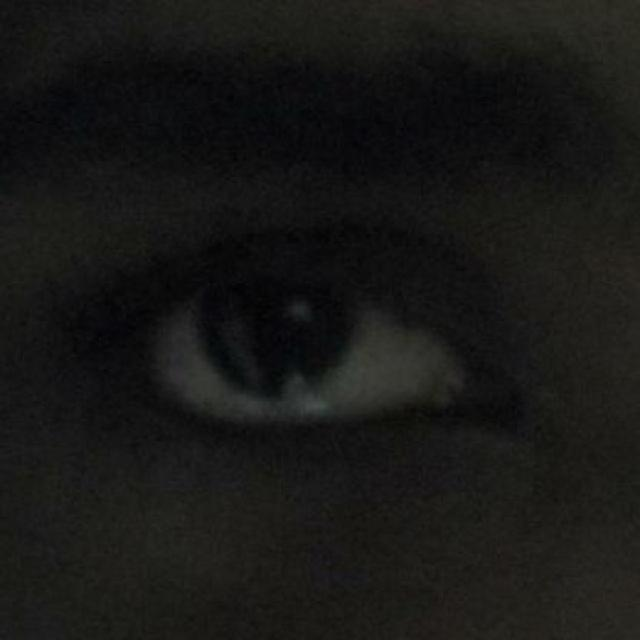awake: (132, 273, 470, 449)
